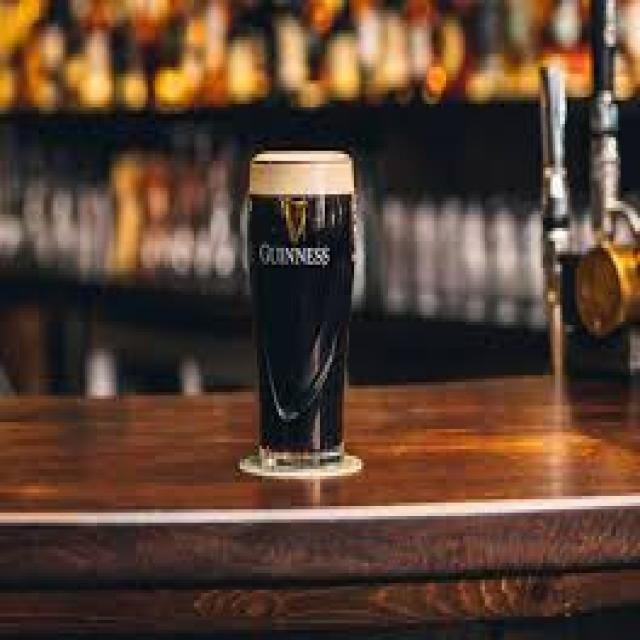guiness_full_glass: (249, 145, 355, 472)
